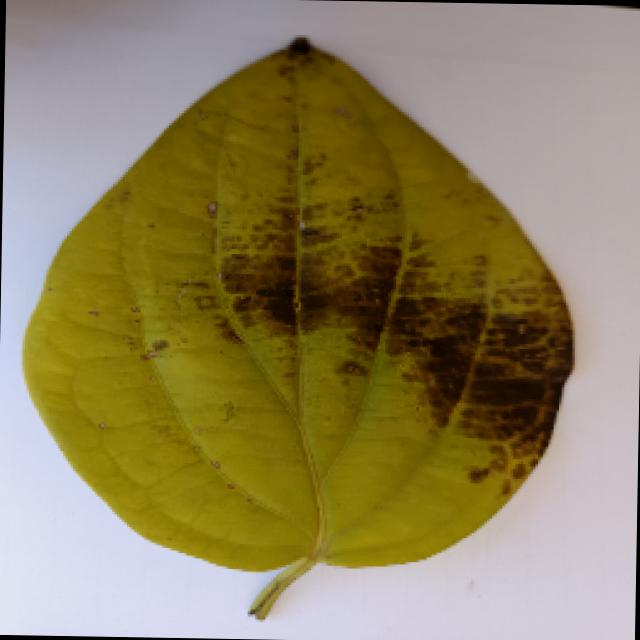slow-decline: (0, 9, 605, 612)
